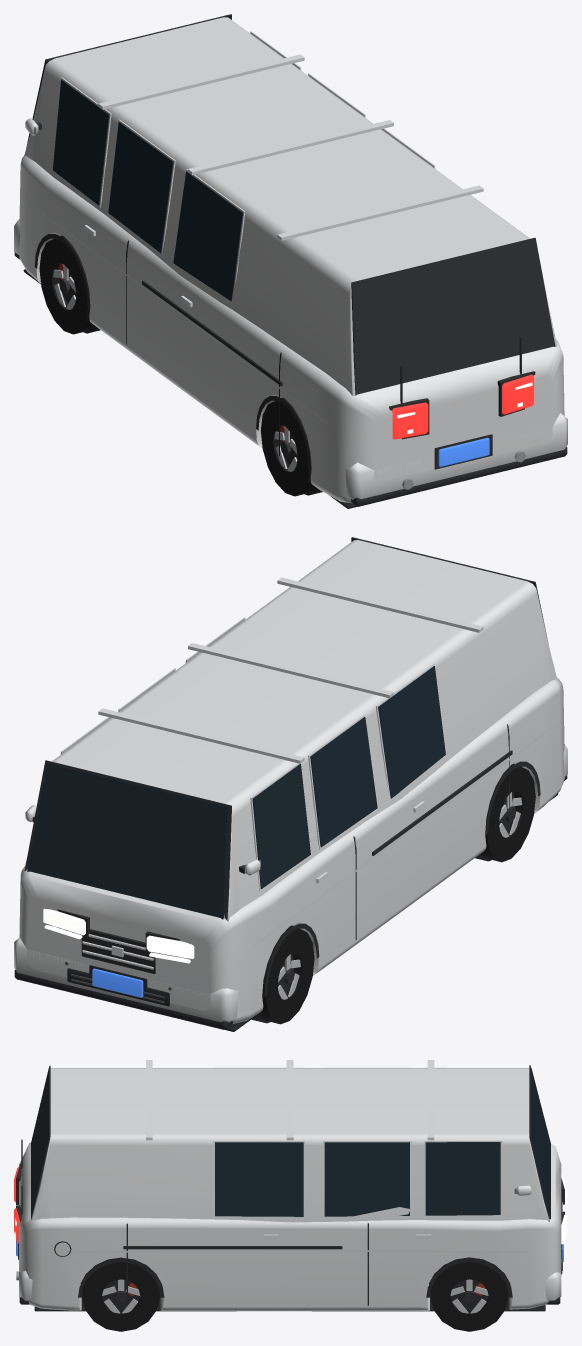
Rendered from car_van_passenger_white.glb.
3 renders of one model, top to bottom at view 1: azimuth 30°, elevation 25°; view 2: azimuth 150°, elevation 25°; view 3: azimuth 270°, elevation 25°, orthographic. The views are drawn at different scales.
Visible parts, largest first — view 1: Body, Trim, Glass, Wheel_FL, Wheel_RL, Lights, Plate_R; view 2: Body, Glass, Trim, Wheel_FL, Wheel_RL, Lights, Plate_F; view 3: Body, Glass, Trim, Wheel_FR, Wheel_RR, Lights.
Part boxes in pixels (<box>): Body: <box>14,17,567,503</box>; Trim: <box>14,14,567,508</box>; Glass: <box>34,80,242,301</box>; Wheel_FL: <box>39,236,94,334</box>; Wheel_RL: <box>260,398,316,496</box>; Lights: <box>391,374,533,439</box>; Plate_R: <box>438,437,489,466</box>; Body: <box>14,540,567,1023</box>; Glass: <box>27,666,445,919</box>; Trim: <box>14,537,567,1031</box>; Wheel_FL: <box>258,926,314,1024</box>; Wheel_RL: <box>480,764,535,862</box>; Lights: <box>43,908,194,963</box>; Plate_F: <box>92,968,143,997</box>; Body: <box>19,1068,561,1311</box>; Glass: <box>215,1068,550,1219</box>; Trim: <box>16,1060,564,1311</box>; Wheel_FR: <box>431,1257,507,1331</box>; Wheel_RR: <box>82,1257,159,1331</box>; Lights: <box>14,1166,567,1244</box>.
Bounding box in the file's own units: 2.04 × 2.02 × 5.31.
